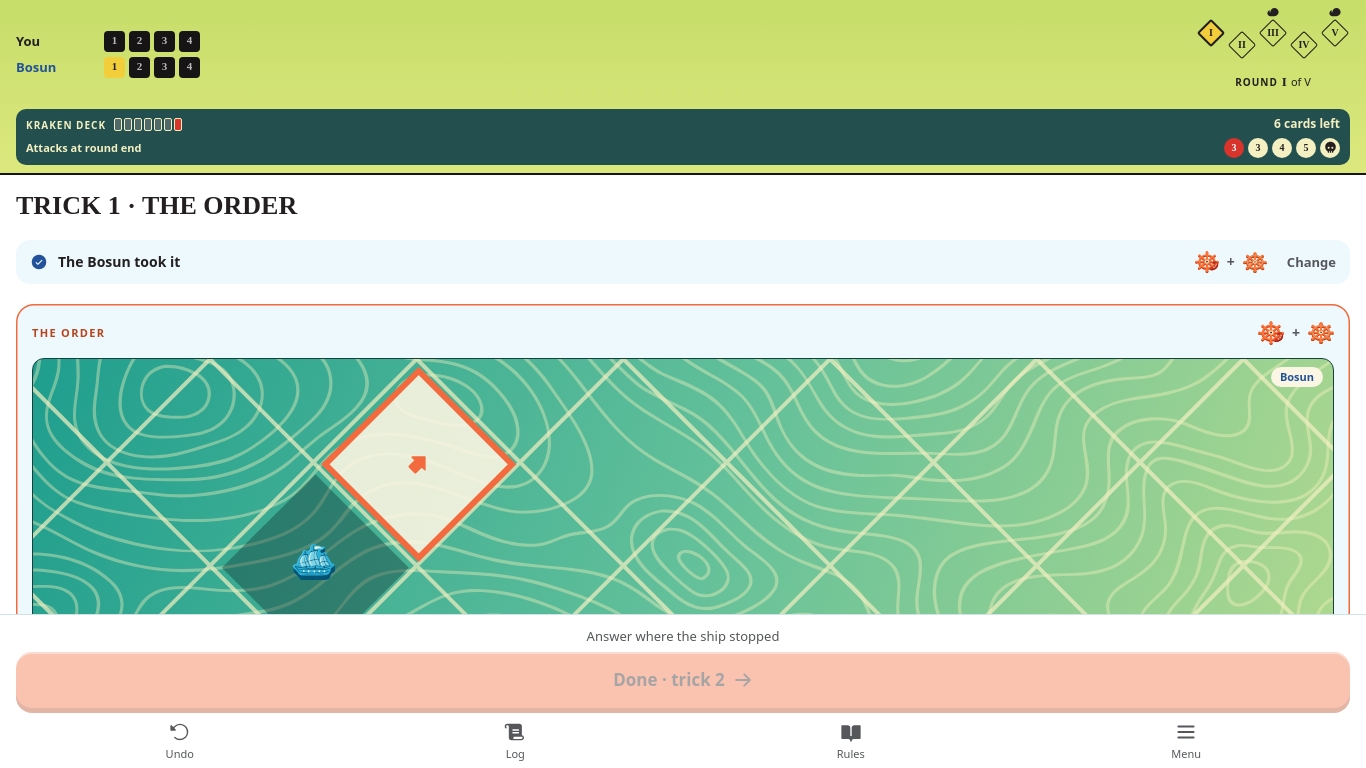
Scenario: the order (C5) › goes back to the trick with its picks on Change
Click the button with aria-label "Change the winner and the symbols" at (1311, 262), box left=1277, top=240, right=1346, bottom=284
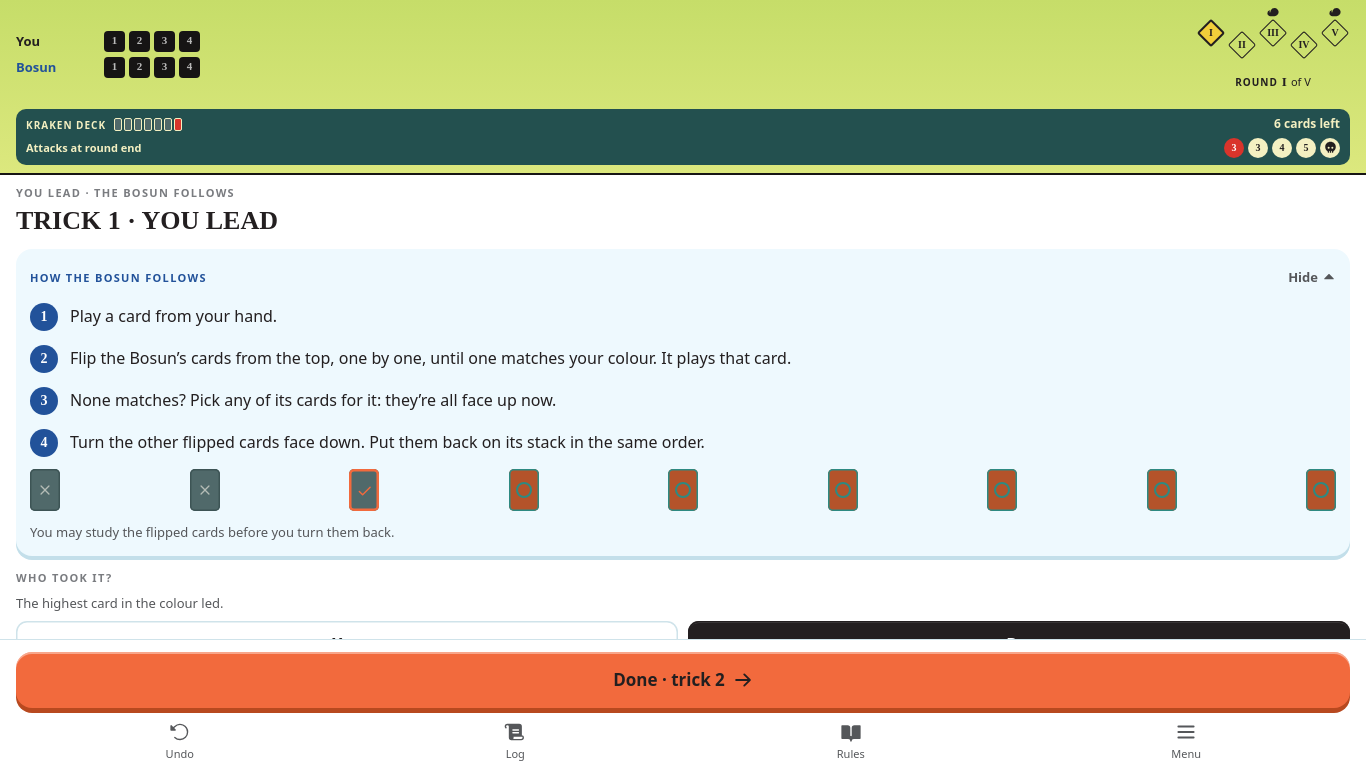
Now the heading "TRICK 1 · YOU LEAD" is shown, box left=16, top=206, right=278, bottom=235
Now the button "Done · trick 2" is enabled, box left=16, top=652, right=1350, bottom=708
